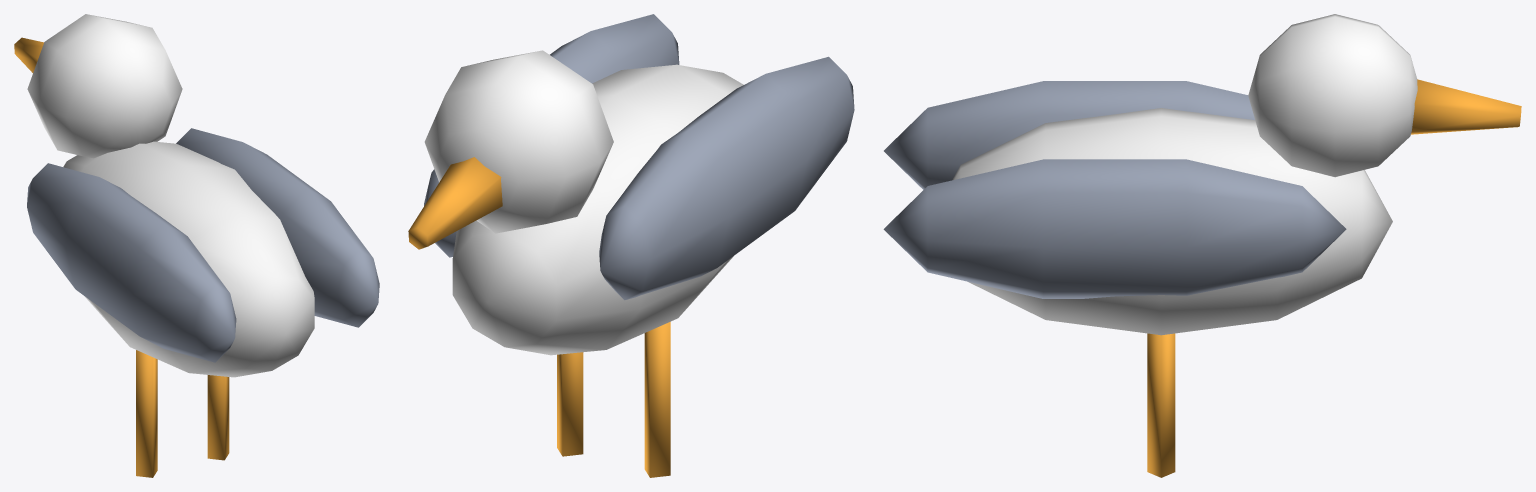
Rendered from gull_standing.glb.
3 views of the same model, side by side, from view 1: azimuth 30°, elevation 25°; view 2: azimuth 150°, elevation 25°; view 3: azimuth 270°, elevation 25° (orthographic). The views are drawn at different scales.
Visible parts, largest first — view 1: Gull_Standing_Body, Gull_Standing_Wings, Gull_Standing_Beak; view 2: Gull_Standing_Body, Gull_Standing_Wings, Gull_Standing_Beak; view 3: Gull_Standing_Wings, Gull_Standing_Body, Gull_Standing_Beak.
Boxes of the visible parts, bbox=[...] form: Gull_Standing_Body: bbox=[27, 14, 314, 377]; Gull_Standing_Wings: bbox=[27, 128, 379, 362]; Gull_Standing_Beak: bbox=[14, 37, 229, 477]; Gull_Standing_Body: bbox=[424, 50, 743, 355]; Gull_Standing_Wings: bbox=[424, 14, 854, 300]; Gull_Standing_Beak: bbox=[408, 157, 670, 477]; Gull_Standing_Wings: bbox=[883, 81, 1346, 298]; Gull_Standing_Body: bbox=[952, 14, 1417, 335]; Gull_Standing_Beak: bbox=[1147, 79, 1521, 477].
Size of the model in its own units: 0.2361 by 0.415 by 0.551.
